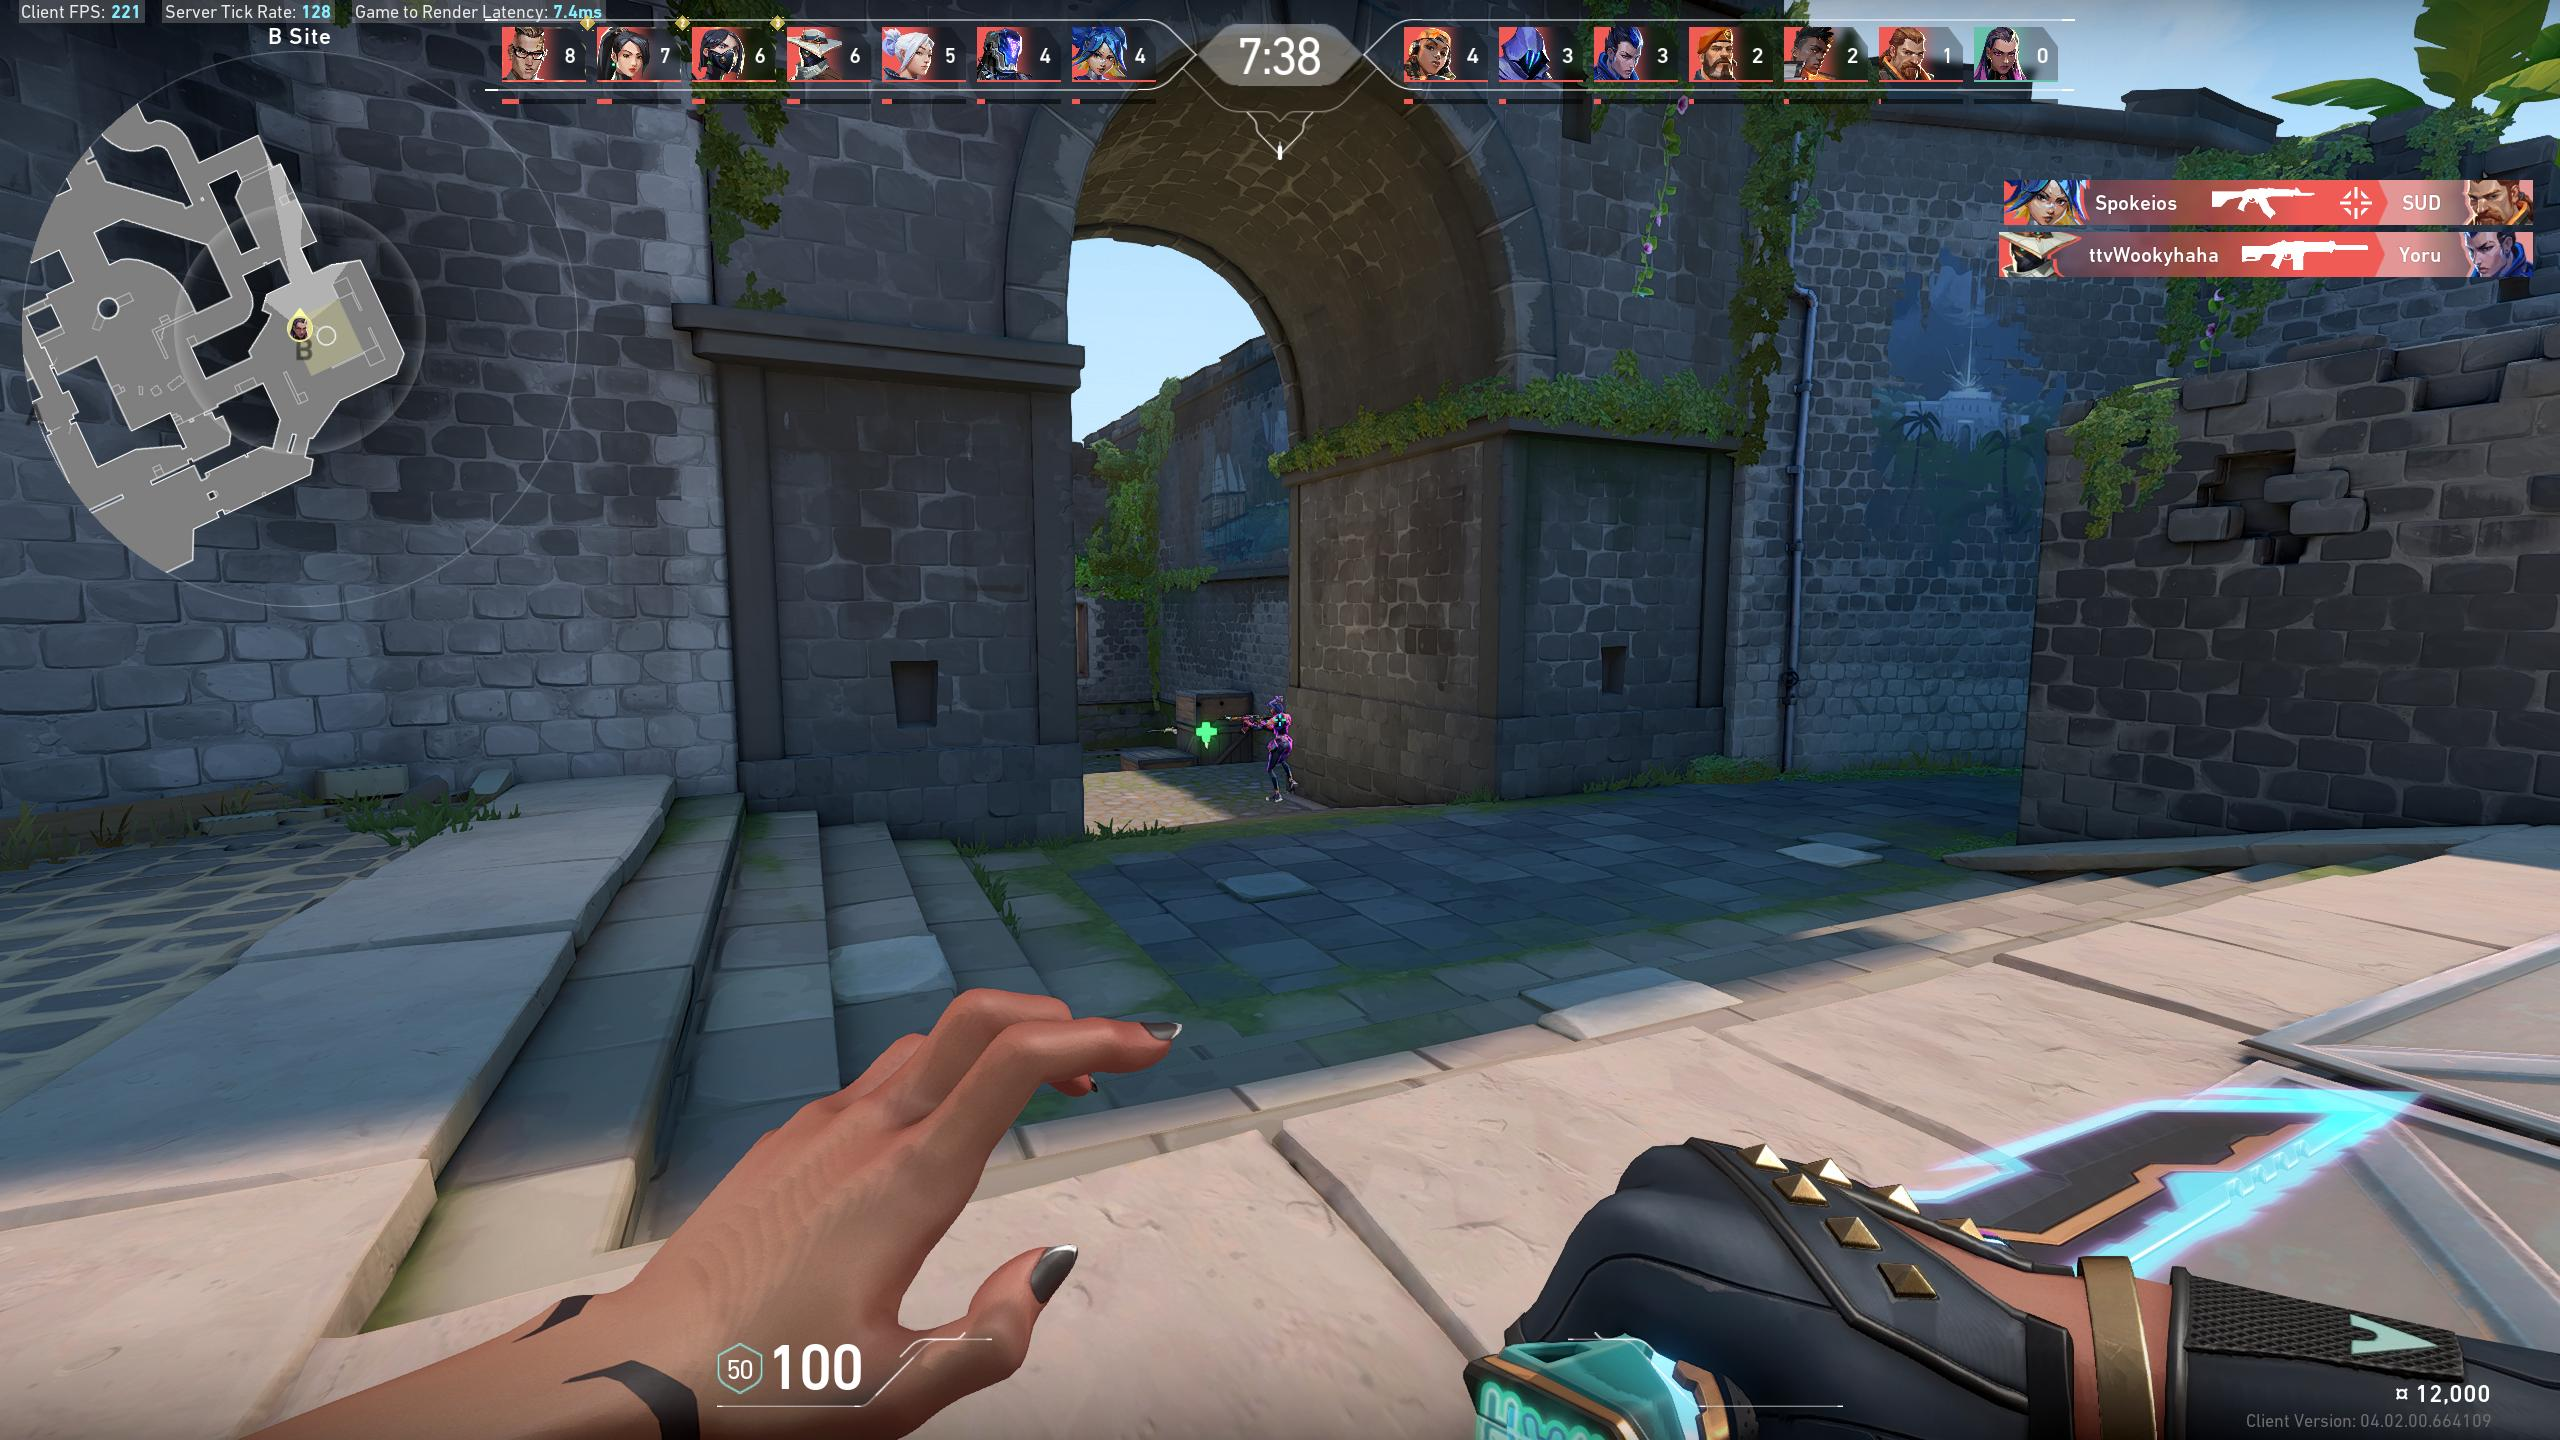enemyBody: (1275, 716, 1285, 738)
enemyHead: (1271, 705, 1278, 714)
